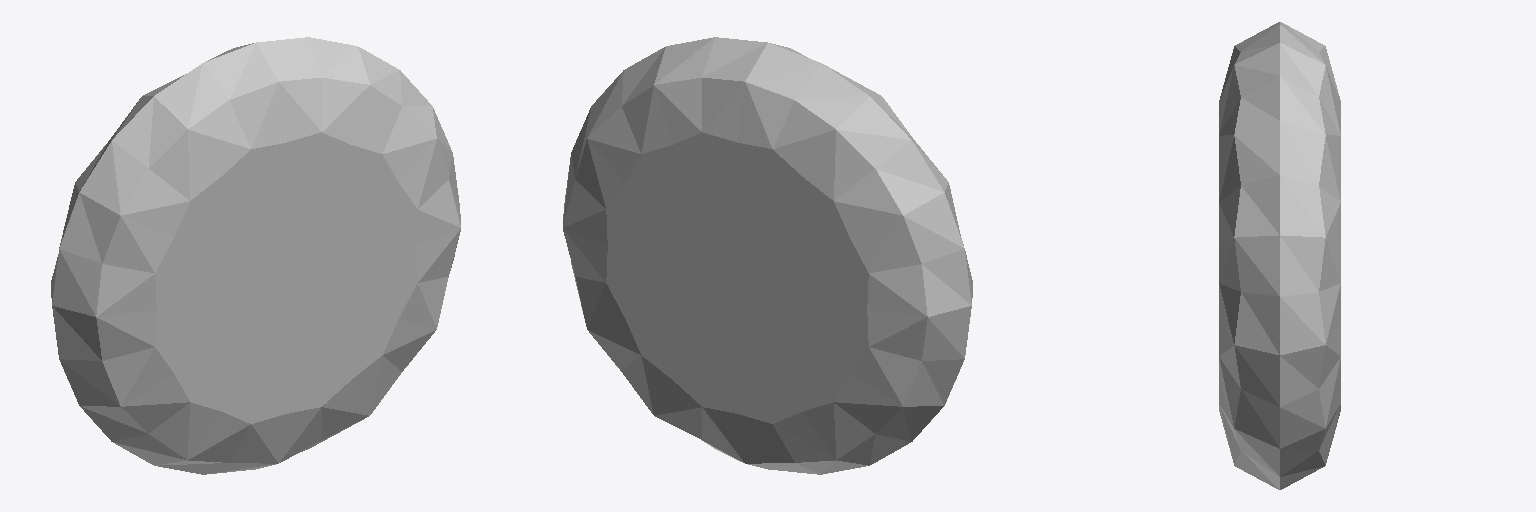
File: Tool.obj
3 views of the same model, side by side, from view 1: azimuth 30°, elevation 25°; view 2: azimuth 150°, elevation 25°; view 3: azimuth 270°, elevation 25° (orthographic).
Parts seen in each view (by area): view 1: pCylinder1; view 2: pCylinder1; view 3: pCylinder1.
Part boxes in pixels (x1,y1,x2,y2): pCylinder1: (51,37,460,474); pCylinder1: (563,37,972,474); pCylinder1: (1219,22,1340,489).
Size of the model in its own units: 1.93 by 1.93 by 0.5.